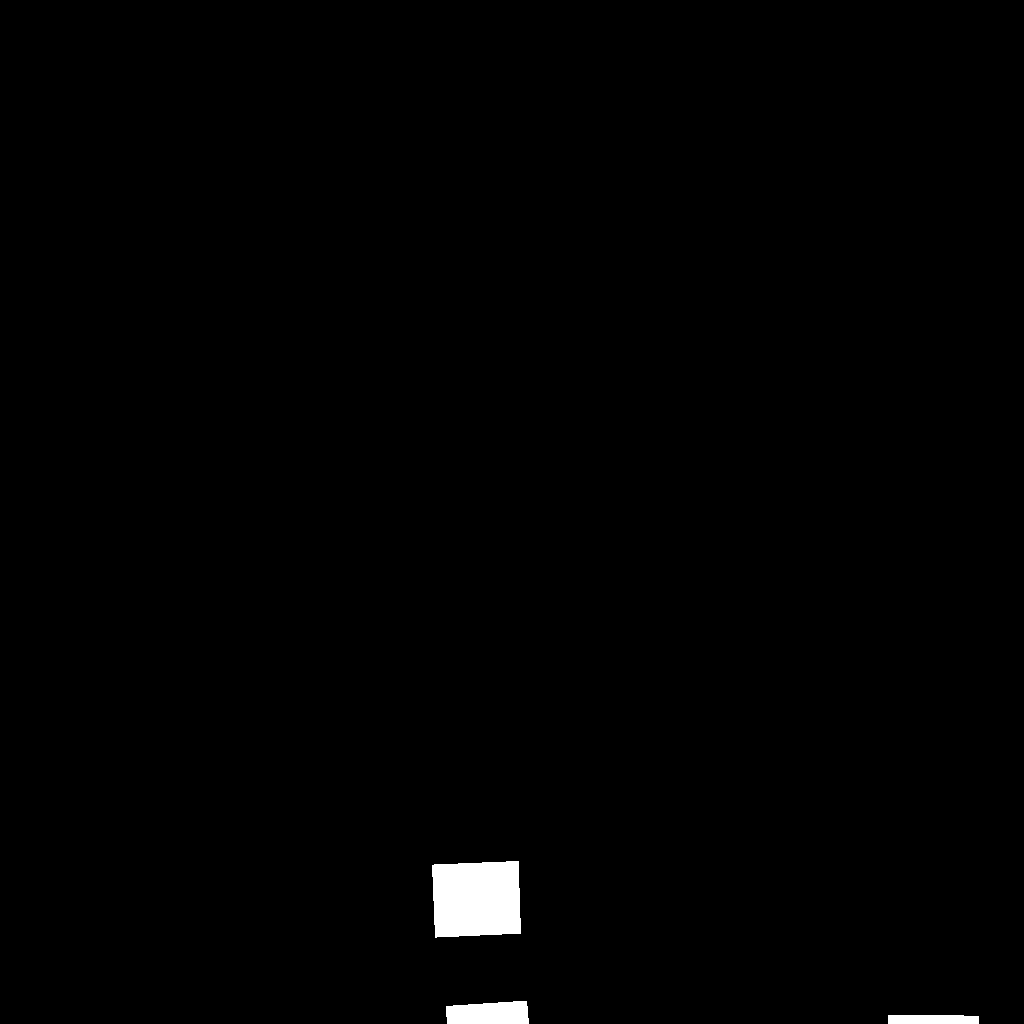building: (432, 861, 522, 938), (446, 1001, 530, 1024), (888, 1015, 980, 1024)
